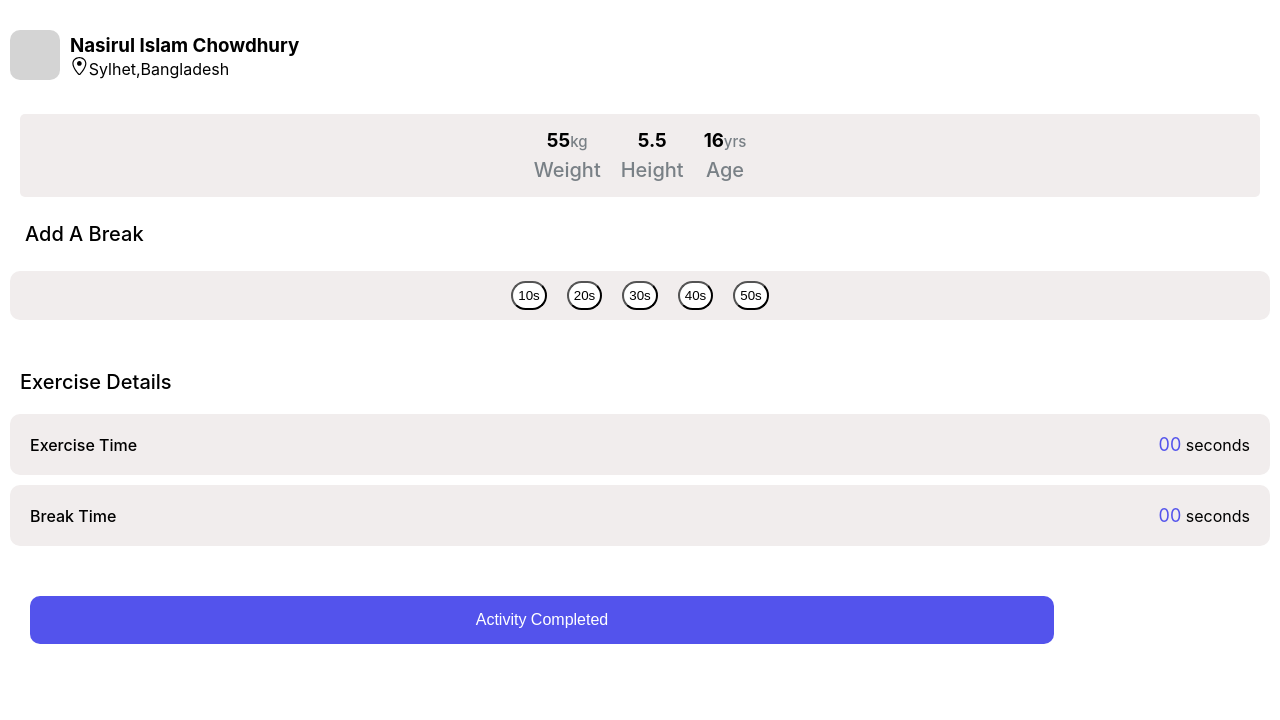
Scenario: Count component › raising popup correctly
Click the button "Activity Completed".
click(542, 620)  # box [30,596,1054,644]
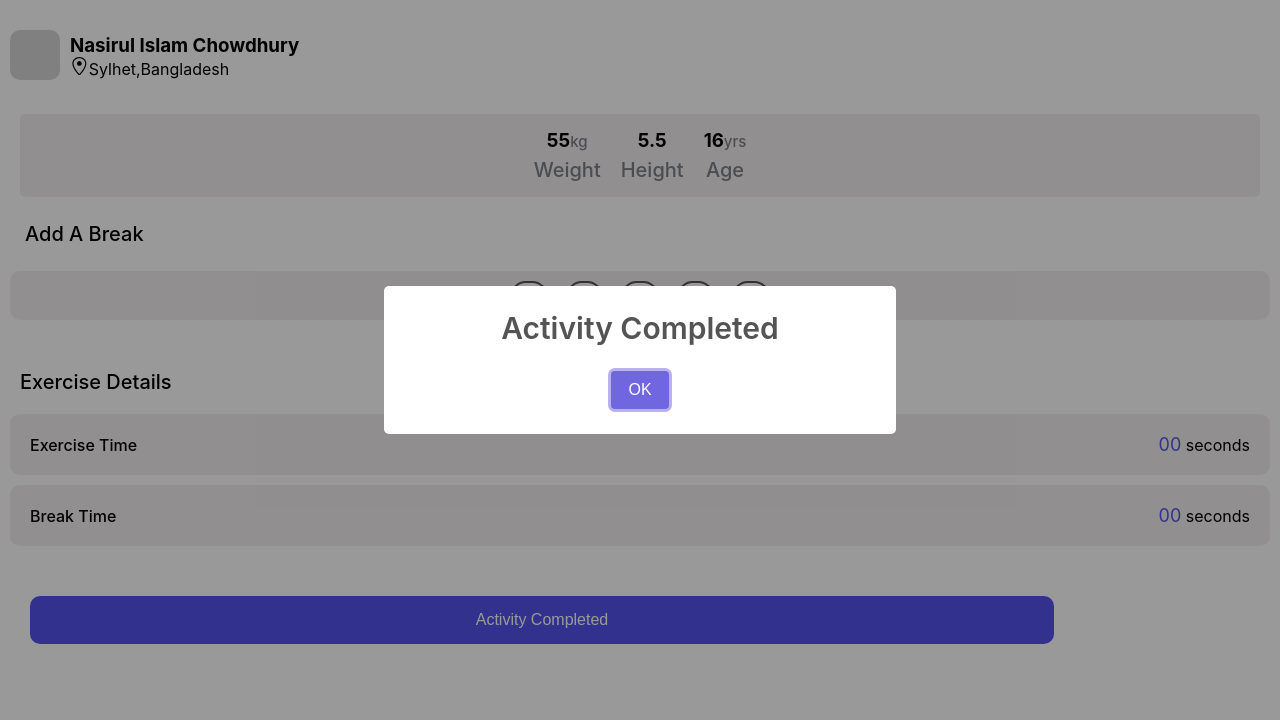
Result: the heading "Activity Completed" is shown at [501,310,779,346]
